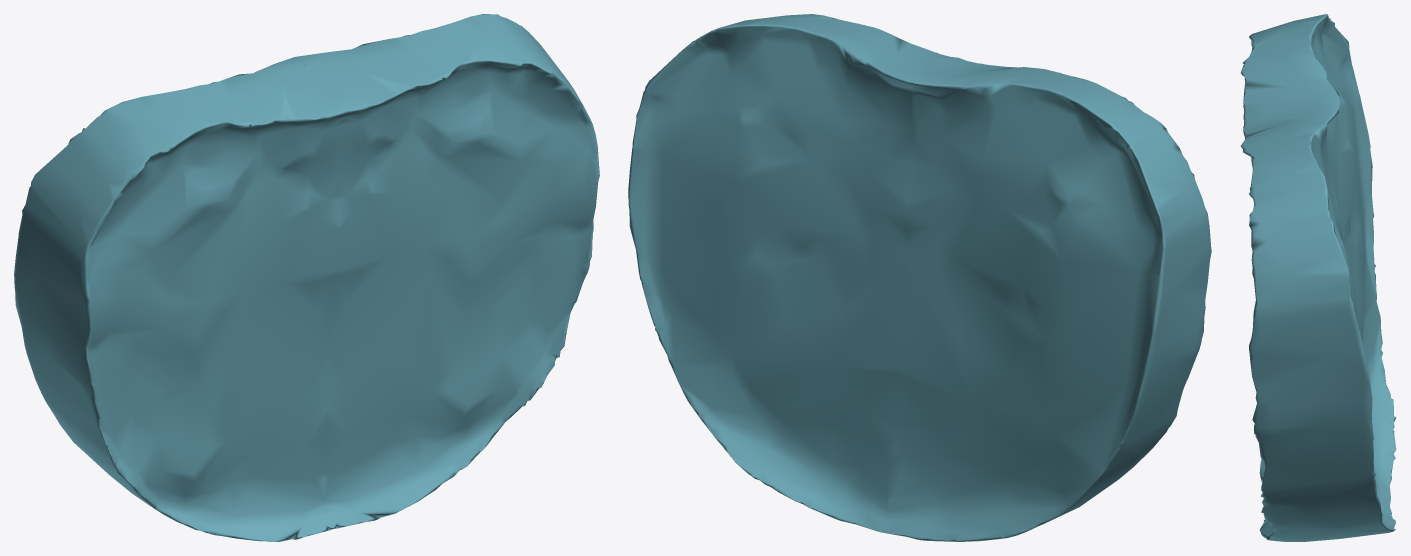
The picture shows the model from 3 angles, left to right: view 1: azimuth 30°, elevation 25°; view 2: azimuth 150°, elevation 25°; view 3: azimuth 270°, elevation 25°; orthographic projection. The views are drawn at different scales.
Parts seen in each view (by area): view 1: 腰3—腰4椎间盘; view 2: 腰3—腰4椎间盘; view 3: 腰3—腰4椎间盘.
Part boxes in pixels (x1,y1,x2,y2): 腰3—腰4椎间盘: (14,14,599,541); 腰3—腰4椎间盘: (628,14,1211,541); 腰3—腰4椎间盘: (1240,14,1396,541).
Bounding box in the file's own units: 0.068 × 0.0554 × 0.0188.
